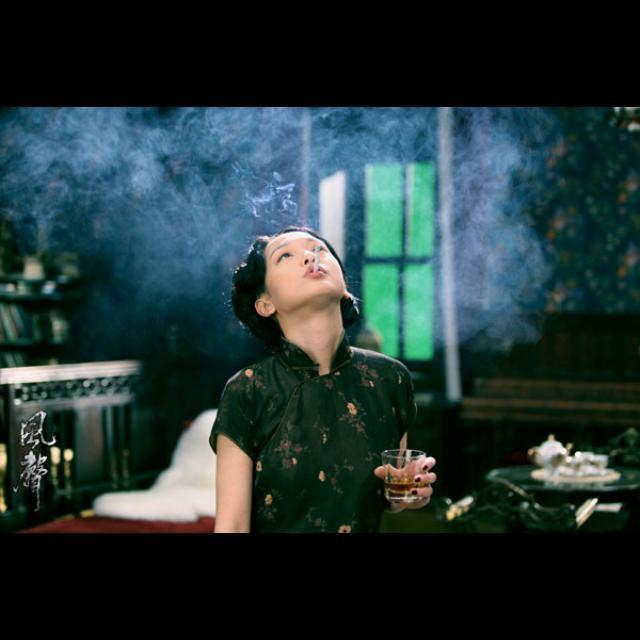rokok: (312, 244, 321, 272)
